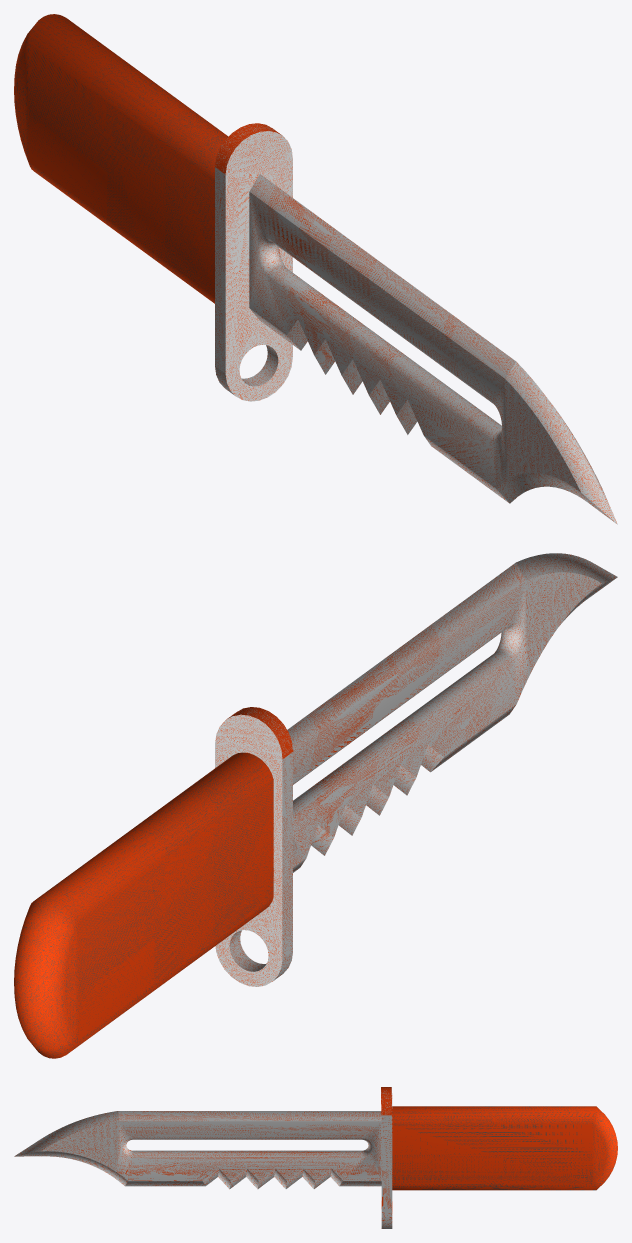
Rendered from model_align.obj.
3 renders of one model, top to bottom at view 1: azimuth 30°, elevation 25°; view 2: azimuth 150°, elevation 25°; view 3: azimuth 270°, elevation 25°, orthographic. The views are drawn at different scales.
Parts seen in each view (by area): view 1: mesh1_mesh1-geometry; view 2: mesh1_mesh1-geometry; view 3: mesh1_mesh1-geometry.
Boxes of the visible parts, left/top/right/bottom form: mesh1_mesh1-geometry: left=14, top=14, right=617, bottom=524; mesh1_mesh1-geometry: left=14, top=553, right=617, bottom=1058; mesh1_mesh1-geometry: left=14, top=1087, right=617, bottom=1228.
Size of the model in its own units: 0.0151 by 0.0578 by 0.229.
